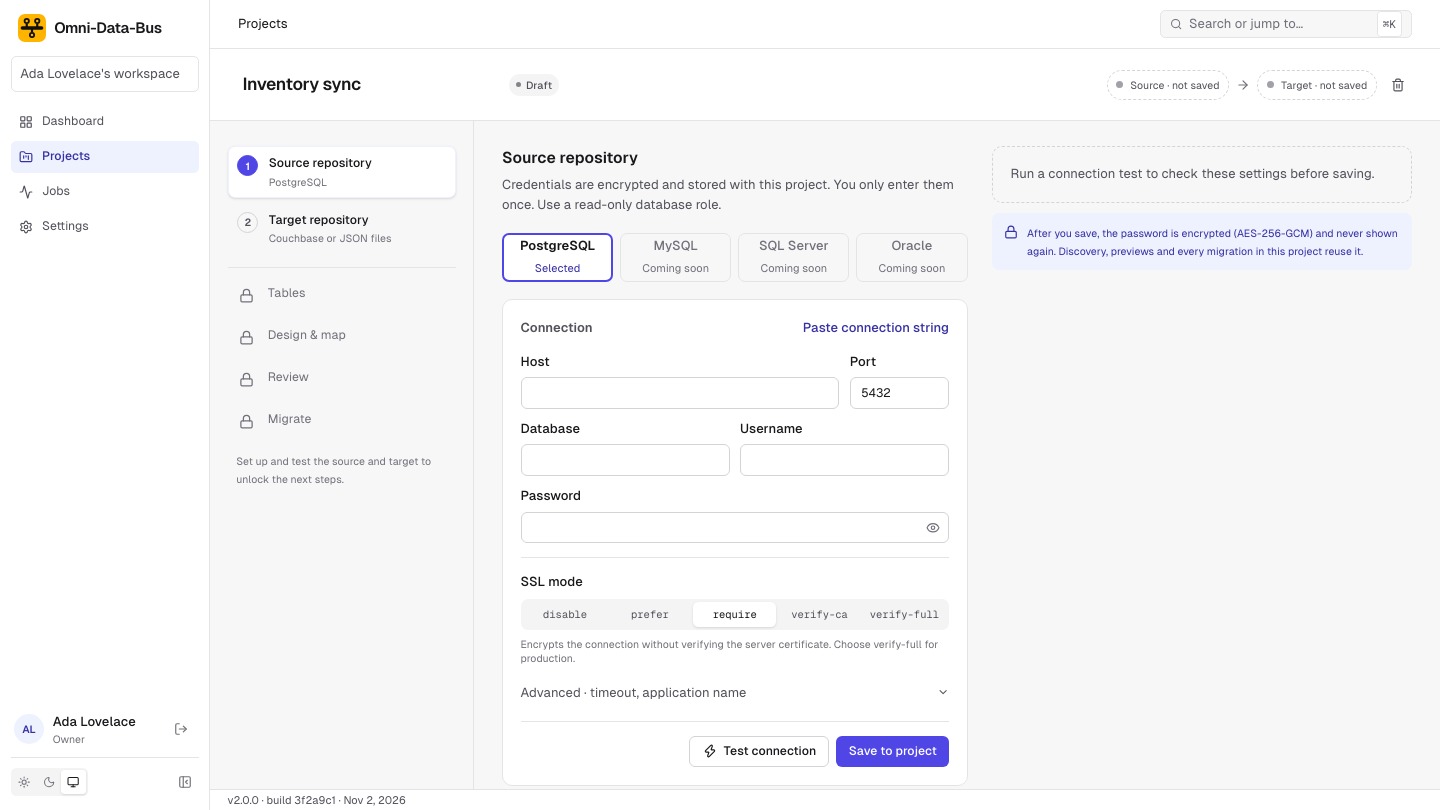
ProjectWizard › AC6: renaming autosaves with the version
This screenshot has width=1440, height=810.
In the field named "Project name": x=368, y=85 x1=238 y1=71 x2=498 y2=98, type " v2"
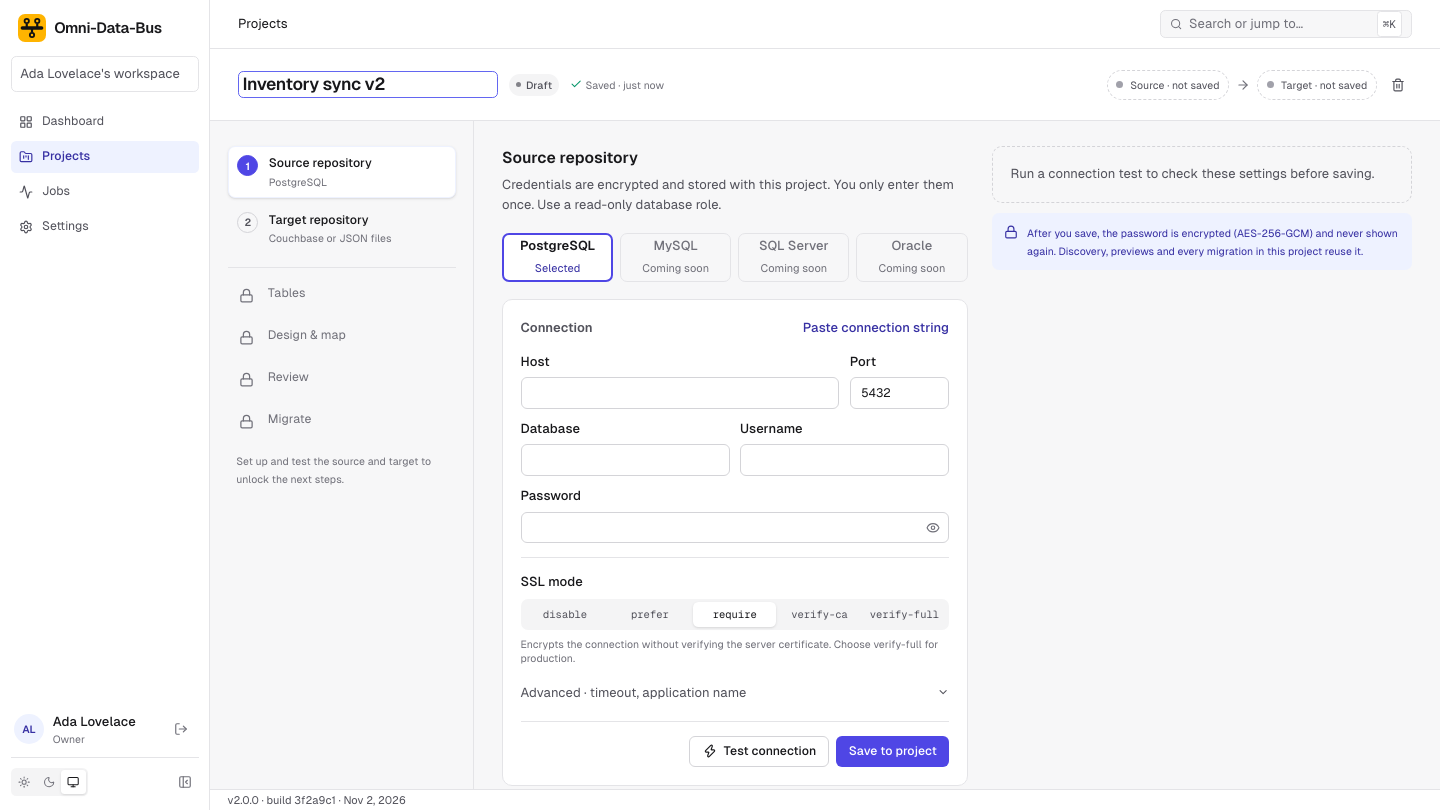
Expected: the text "Saved · just now" is shown, x1=570 y1=78 x2=664 y2=92
